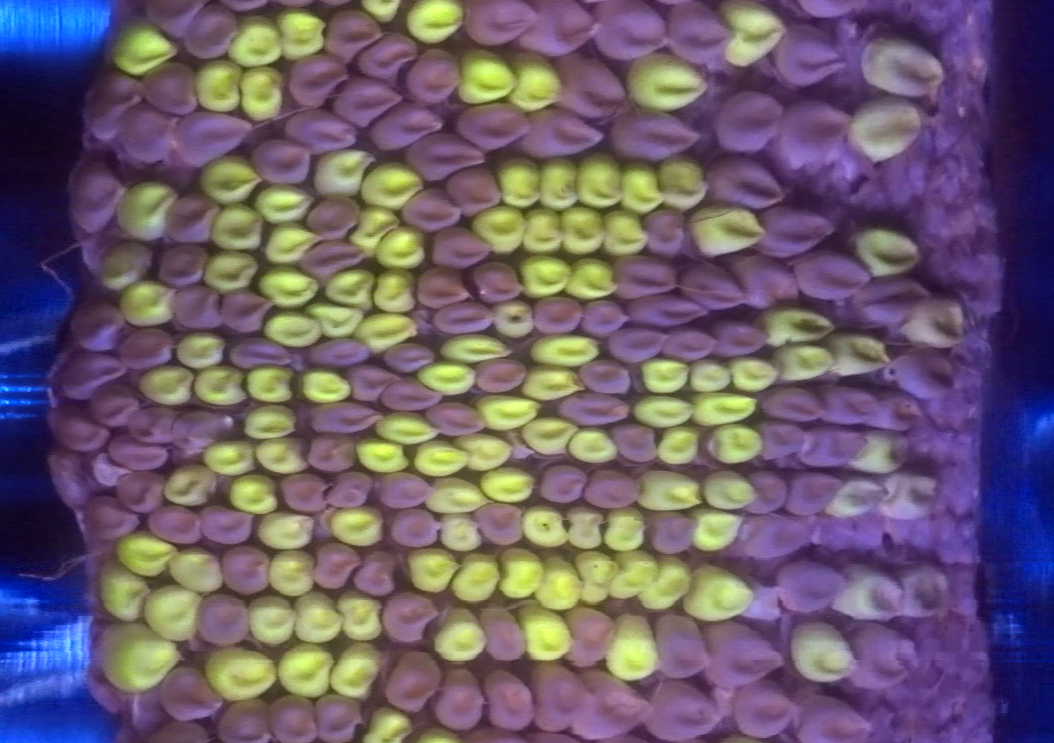fluorescent: (97, 626, 183, 688), (864, 40, 947, 96), (626, 52, 703, 111), (787, 617, 854, 682), (718, 4, 783, 69), (849, 104, 924, 157), (500, 49, 563, 110), (117, 179, 177, 241), (111, 20, 176, 77), (838, 565, 904, 621), (684, 564, 751, 618), (605, 612, 658, 679), (456, 42, 511, 106), (206, 643, 271, 697), (690, 207, 760, 254), (144, 586, 202, 641), (516, 607, 574, 660), (327, 644, 385, 697), (311, 147, 375, 194), (99, 566, 151, 621), (858, 230, 920, 276), (908, 297, 964, 347), (884, 473, 941, 521), (432, 608, 482, 662), (903, 565, 950, 622), (360, 166, 425, 207), (117, 532, 176, 577), (754, 308, 832, 340), (114, 282, 176, 322), (246, 596, 295, 646), (642, 557, 690, 608), (276, 6, 323, 58), (232, 12, 278, 65), (535, 554, 581, 607), (576, 153, 621, 207), (855, 429, 911, 472), (328, 504, 384, 547), (280, 647, 329, 696), (451, 548, 500, 596), (637, 471, 702, 507), (656, 165, 709, 209), (408, 2, 464, 43), (241, 64, 282, 120), (472, 206, 524, 250), (195, 58, 238, 111), (405, 545, 455, 590), (135, 367, 192, 406), (200, 157, 258, 195), (561, 258, 622, 294), (618, 162, 661, 213), (168, 550, 224, 589), (260, 312, 322, 347), (296, 596, 345, 640), (617, 551, 658, 603), (351, 207, 399, 251), (778, 345, 833, 383), (202, 250, 254, 290), (455, 433, 511, 470), (337, 592, 383, 637), (520, 254, 568, 297), (524, 335, 603, 361), (210, 206, 260, 247), (638, 354, 690, 393), (256, 186, 312, 222), (692, 394, 759, 424), (690, 507, 739, 548), (429, 480, 488, 514), (520, 419, 574, 456), (538, 157, 577, 208), (560, 209, 604, 254), (259, 270, 314, 306), (414, 442, 469, 478), (269, 550, 314, 594), (496, 549, 538, 596), (196, 366, 244, 407), (229, 475, 280, 513), (497, 159, 539, 205), (702, 475, 755, 511), (307, 303, 363, 337), (265, 223, 315, 261), (250, 363, 293, 407), (325, 270, 376, 307), (832, 479, 878, 520), (298, 362, 347, 400), (354, 436, 406, 471), (363, 707, 415, 742), (238, 405, 298, 435), (601, 211, 647, 250), (418, 360, 474, 392), (707, 428, 763, 460), (259, 512, 313, 545), (480, 469, 533, 502), (477, 398, 537, 427), (525, 367, 581, 398), (100, 246, 154, 278), (165, 468, 213, 504), (522, 507, 566, 546), (379, 415, 436, 445), (573, 556, 610, 602), (358, 316, 411, 348), (605, 508, 646, 549), (440, 335, 513, 358), (203, 440, 255, 472), (377, 228, 424, 263), (731, 356, 778, 391), (374, 270, 413, 310), (258, 440, 305, 473), (524, 210, 560, 253), (656, 427, 699, 462), (687, 360, 735, 391), (572, 504, 603, 550), (569, 430, 616, 460), (636, 397, 690, 423), (175, 334, 226, 361), (440, 515, 480, 549), (496, 305, 535, 336), (359, 1, 402, 19)
nonfluorescent: (782, 90, 849, 170), (581, 670, 653, 740), (712, 90, 787, 157), (174, 110, 254, 168), (709, 619, 781, 683), (611, 107, 701, 158), (532, 662, 594, 736), (595, 1, 672, 59), (771, 27, 844, 88), (758, 205, 845, 256), (849, 623, 916, 689), (649, 612, 712, 681), (796, 693, 881, 743), (705, 156, 788, 207), (650, 678, 719, 738), (81, 69, 138, 141), (728, 683, 800, 740), (458, 101, 530, 156), (406, 130, 482, 181), (524, 116, 607, 162), (561, 54, 621, 117), (670, 1, 731, 62), (70, 156, 116, 234), (530, 1, 597, 53), (780, 558, 838, 618), (561, 604, 613, 670), (464, 1, 537, 47), (281, 109, 359, 152), (288, 53, 347, 109), (732, 256, 796, 307), (679, 260, 744, 310), (122, 106, 175, 167), (859, 278, 927, 325), (793, 253, 864, 298), (478, 670, 535, 726), (404, 49, 464, 102), (435, 665, 483, 731), (382, 651, 436, 709), (370, 104, 444, 146), (182, 8, 240, 61), (803, 424, 871, 469), (141, 61, 199, 113), (478, 608, 530, 666), (895, 347, 956, 396), (741, 515, 812, 556), (250, 138, 313, 184), (335, 73, 396, 120), (446, 167, 507, 214), (164, 667, 217, 721), (709, 311, 767, 359), (54, 352, 127, 390), (44, 450, 90, 510), (324, 8, 378, 59), (382, 594, 436, 644), (196, 594, 250, 644), (822, 380, 878, 428), (556, 393, 637, 426), (165, 195, 218, 245), (47, 410, 109, 452), (219, 287, 273, 335), (467, 259, 527, 302), (304, 196, 361, 241), (470, 504, 527, 548), (786, 467, 836, 517), (220, 544, 268, 596), (626, 296, 709, 326), (607, 256, 676, 292), (315, 691, 362, 743), (68, 301, 121, 347), (363, 33, 411, 83), (430, 229, 491, 268), (218, 699, 272, 743), (425, 398, 484, 438), (270, 694, 318, 743), (170, 286, 221, 332), (307, 402, 382, 433), (402, 190, 461, 229), (760, 387, 824, 422), (308, 545, 359, 588), (120, 327, 176, 366), (413, 269, 470, 307), (328, 468, 377, 512), (757, 421, 806, 465), (375, 471, 430, 510), (304, 240, 361, 277), (384, 510, 441, 547), (307, 432, 358, 473), (201, 507, 256, 545), (580, 359, 638, 395), (530, 296, 582, 336), (161, 242, 207, 287), (587, 470, 636, 512), (108, 437, 170, 470), (540, 462, 587, 505), (430, 303, 493, 335), (228, 336, 291, 368), (148, 506, 201, 544), (876, 392, 927, 431), (172, 413, 232, 446), (151, 1, 207, 36), (307, 337, 372, 367), (282, 473, 327, 516), (359, 549, 398, 597), (120, 470, 163, 513), (643, 209, 685, 253), (613, 327, 667, 361), (647, 516, 695, 554), (612, 424, 656, 465), (477, 357, 524, 395), (86, 498, 130, 538), (381, 342, 436, 373), (582, 300, 627, 337), (665, 329, 717, 361), (95, 390, 138, 427), (746, 471, 783, 513), (347, 367, 394, 399), (131, 410, 175, 444), (387, 380, 436, 409), (144, 723, 207, 743)
